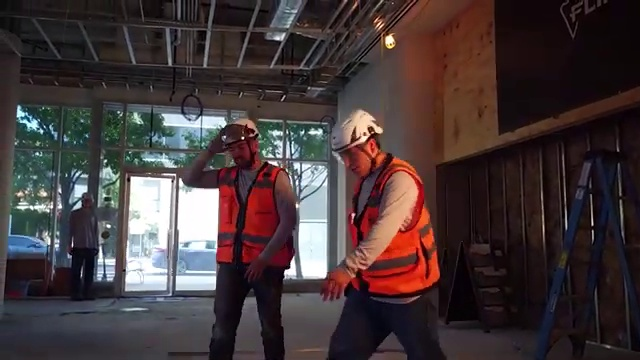helmet: (329, 102, 392, 158), (219, 115, 262, 141)
jacket: (349, 153, 447, 297), (206, 161, 291, 270)
